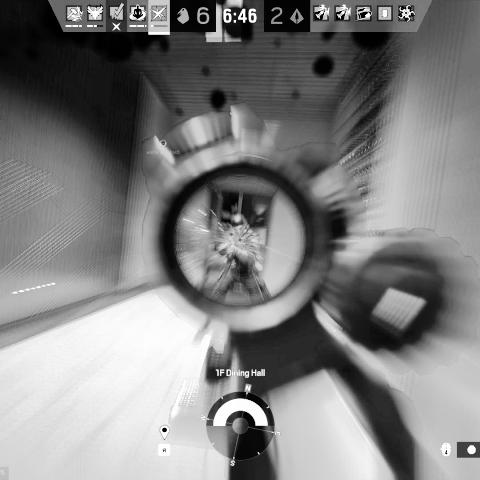Character: (209, 213, 272, 308)
Friend_label: (144, 138, 182, 155)
Head: (230, 214, 247, 236)
